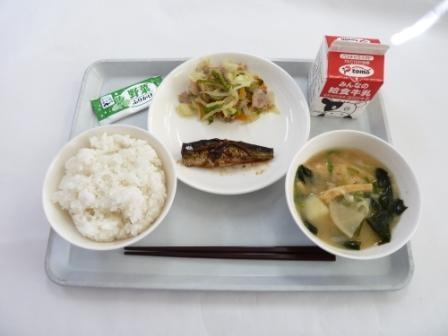Fish: (180, 121, 277, 185)
Milk: (309, 29, 388, 118)
Rice: (45, 129, 172, 254)
Soups: (295, 137, 405, 252)
salad with sauce: (180, 53, 269, 134)
